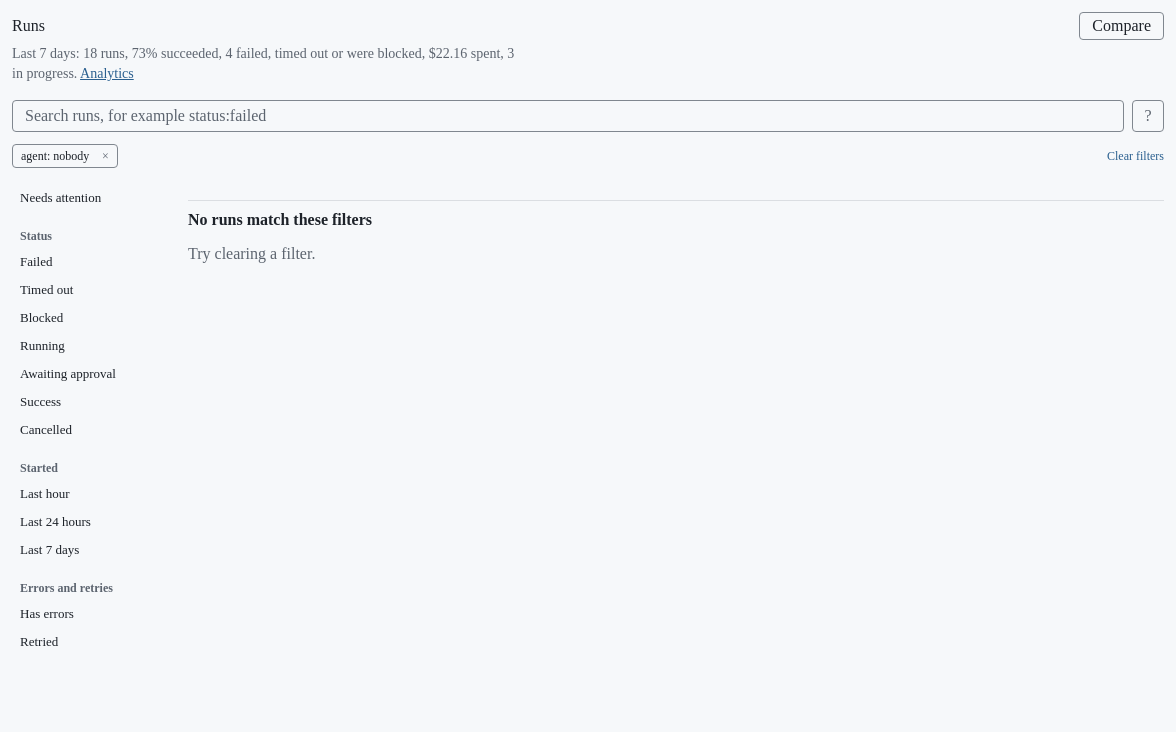
RunsList › an agent filter from a link narrows the list, shows as a chip, and clears
Check: the text "No runs match these filters" is shown, box [188,211,372,228]
Click the button "Clear filters" at (1136, 156), box [1107,148,1164,164]
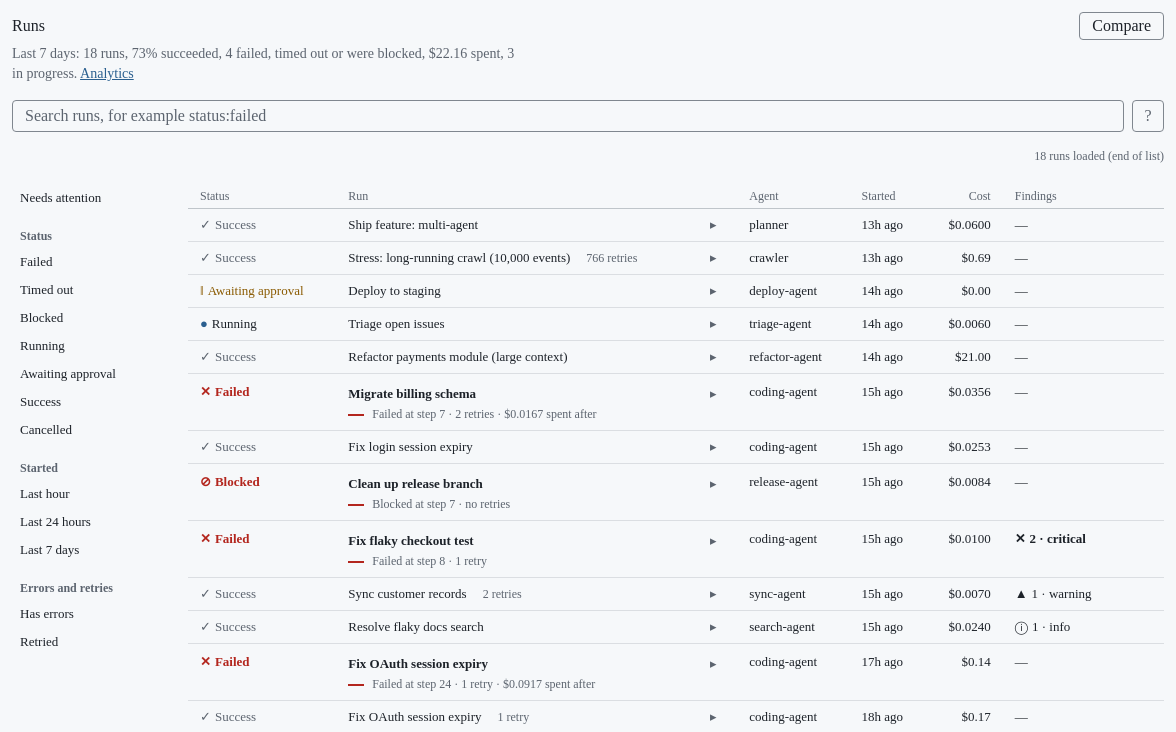
Check: the number of rows is 19
